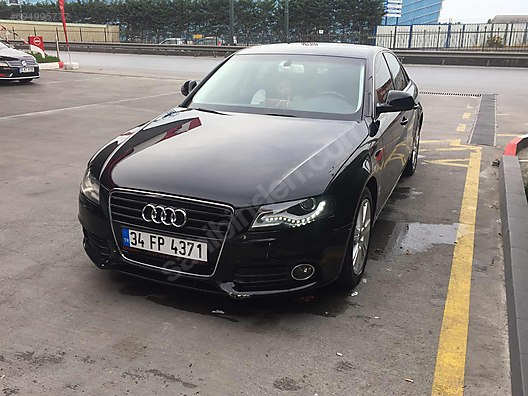audi: (138, 199, 192, 230)
